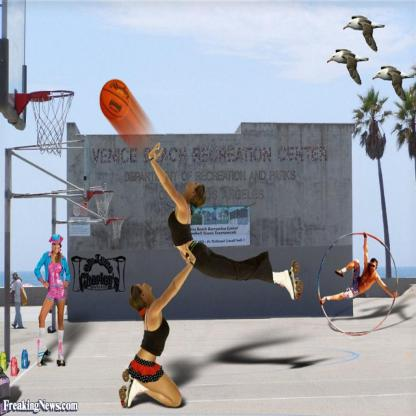face: (134, 283, 154, 300), (188, 183, 202, 195), (54, 243, 60, 254), (371, 263, 377, 271)
